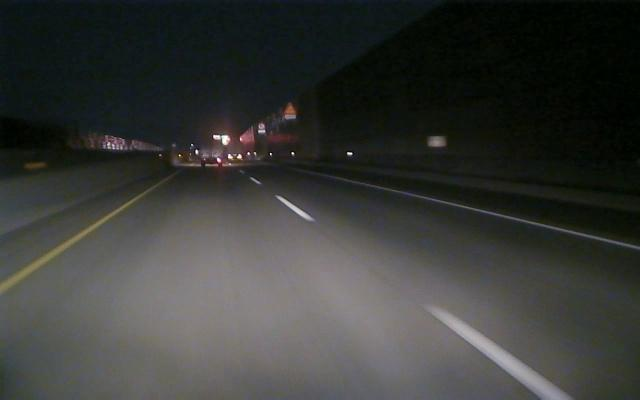lane: (250, 177, 574, 398), (361, 183, 639, 251), (2, 188, 151, 294)
